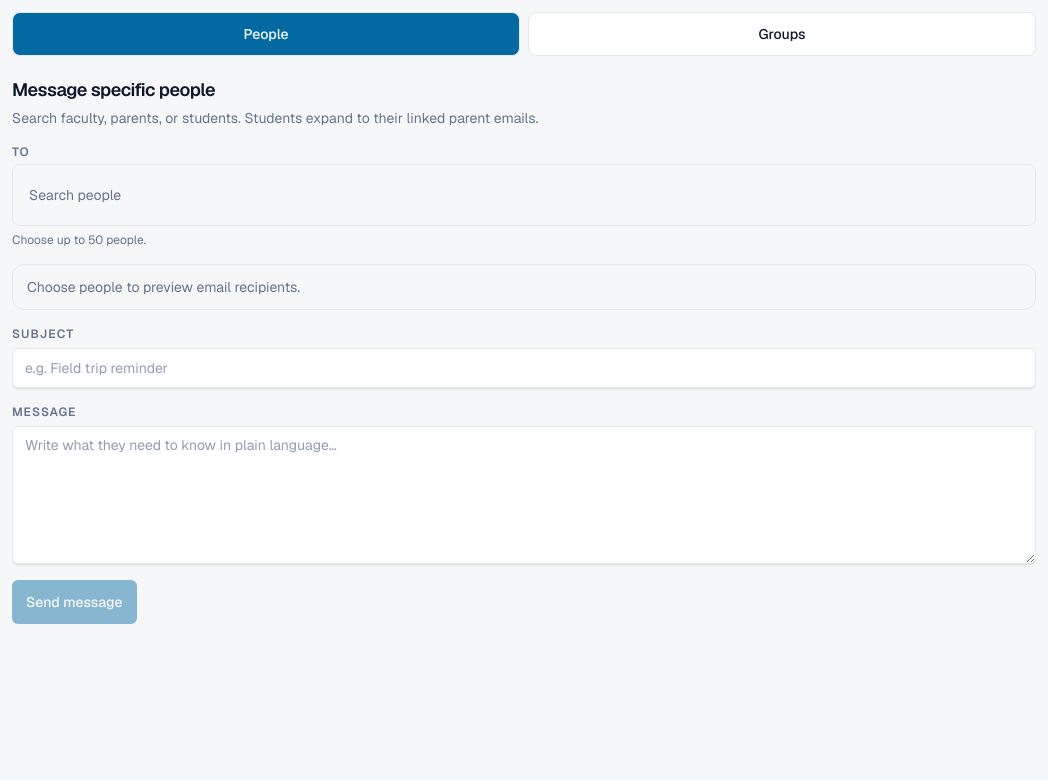
Test case: CommunicationsComposer › opens in People mode and preserves the existing Groups composer
Expected: the heading "Message specific people" is shown, [12, 78, 215, 101]
What coordinates should you click on to do the following:
click the tab "Groups"
I would click on:
 (782, 34)
Its box is [528, 12, 1036, 56].
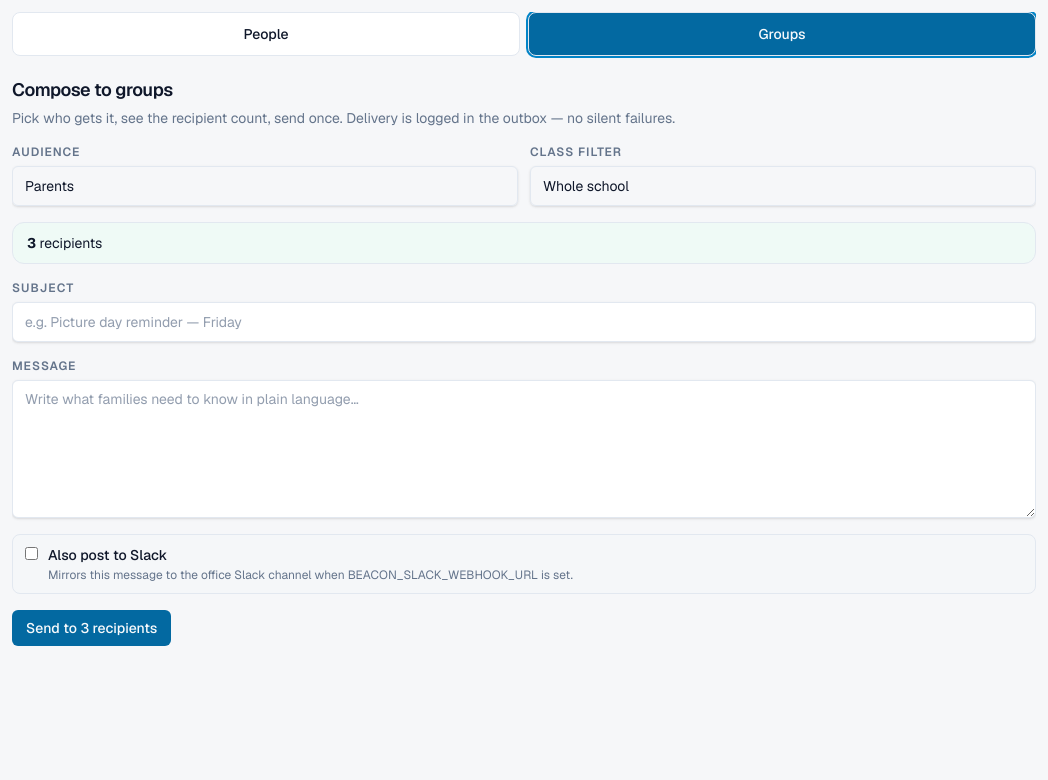
Result: the heading "Compose to groups" is shown at [12, 78, 173, 101]
